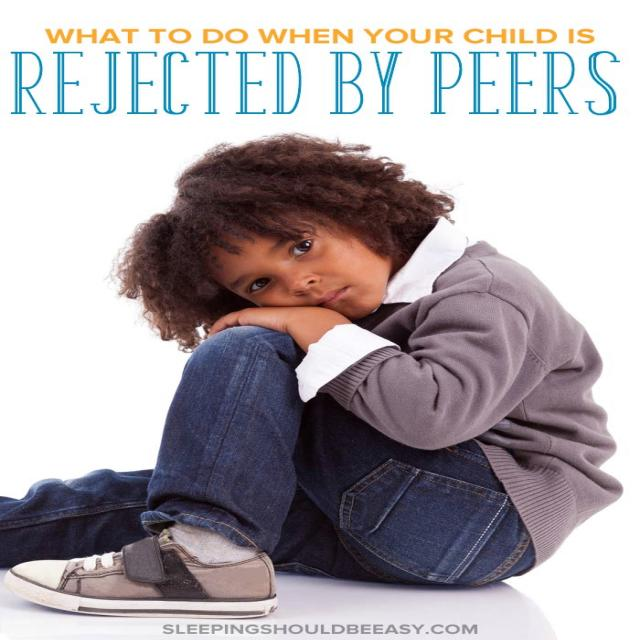child: (0, 142, 622, 621)
